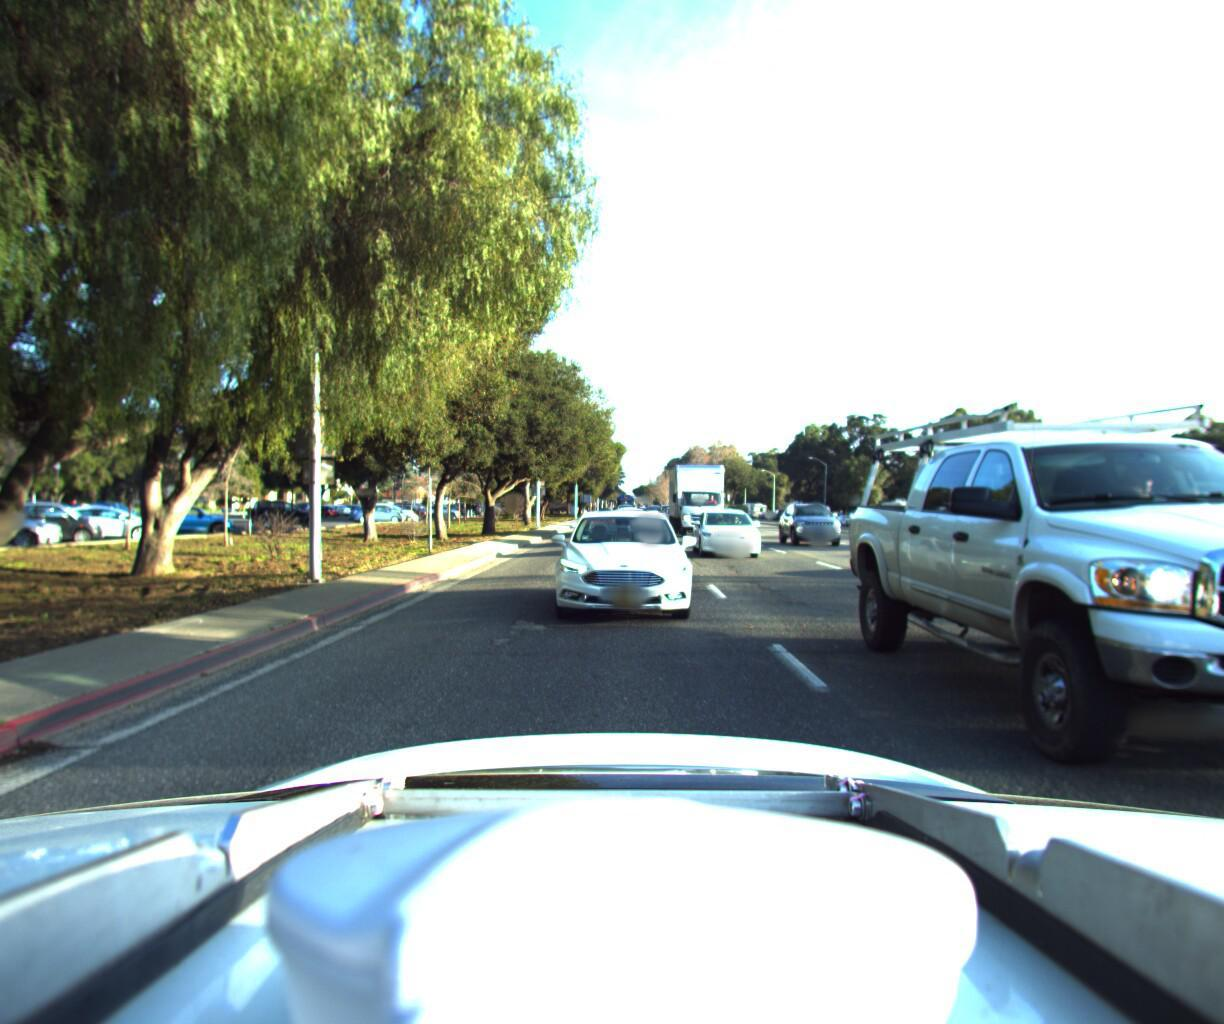car: (846, 275, 1224, 936), (545, 499, 688, 636), (691, 498, 767, 556), (777, 496, 851, 544)
other_vehicle: (1175, 467, 1224, 573), (874, 489, 930, 529)
truck: (665, 455, 727, 538)
